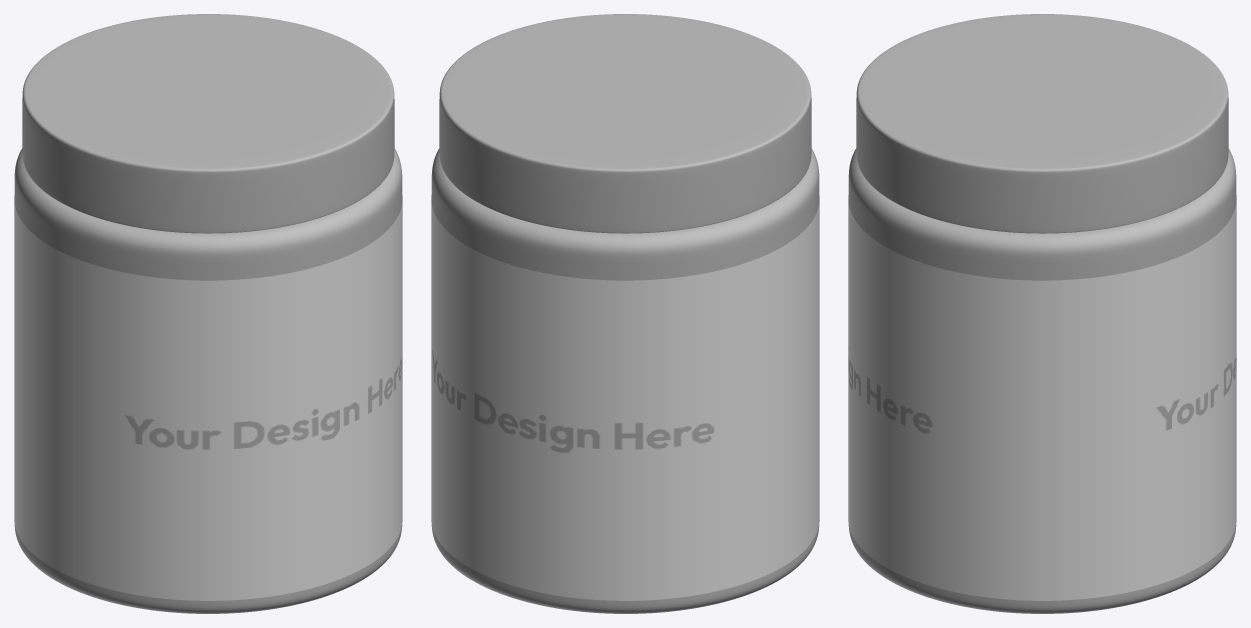
The model's file is Supplement Jar Single.glb.
3 renders of one model, left to right at view 1: azimuth 30°, elevation 25°; view 2: azimuth 150°, elevation 25°; view 3: azimuth 270°, elevation 25°, orthographic.
Visible parts, largest first — view 1: Replacer-Label, Cap, Bottle; view 2: Replacer-Label, Cap, Bottle; view 3: Replacer-Label, Cap, Bottle.
Part boxes in pixels (left/top/right/bottom): Replacer-Label: left=14, top=195, right=402, bottom=600; Cap: left=22, top=14, right=394, bottom=233; Bottle: left=14, top=148, right=402, bottom=613; Replacer-Label: left=431, top=195, right=819, bottom=600; Cap: left=439, top=14, right=811, bottom=233; Bottle: left=431, top=148, right=819, bottom=613; Replacer-Label: left=848, top=195, right=1236, bottom=600; Cap: left=856, top=14, right=1228, bottom=233; Bottle: left=848, top=148, right=1236, bottom=613.
Size of the model in its own units: 0.8642 by 1.09 by 0.8642.
3 materials, 1 textured.
